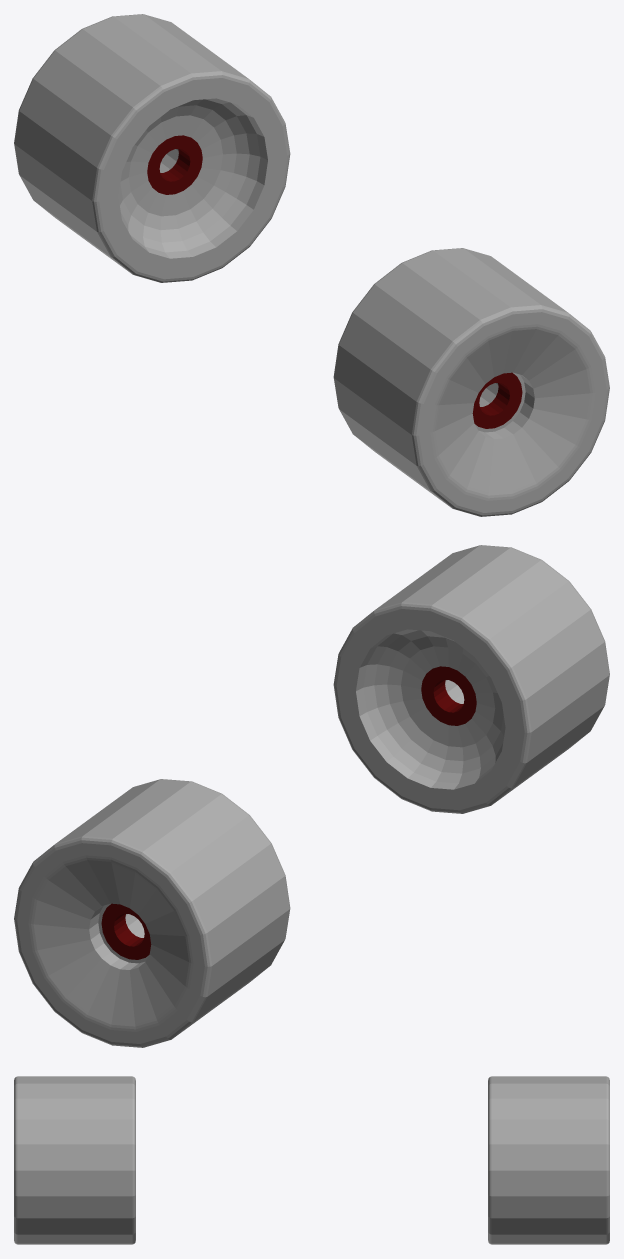
File: CruiserWheels.fbx
3 views of the same model, one above another, from view 1: azimuth 30°, elevation 25°; view 2: azimuth 150°, elevation 25°; view 3: azimuth 270°, elevation 25° (orthographic). The views are drawn at different scales.
Visible parts, largest first — view 1: CruiserWheels; view 2: CruiserWheels; view 3: CruiserWheels.
Part boxes in pixels (x1,y1,x2,y2): CruiserWheels: [14, 14, 609, 516]; CruiserWheels: [14, 545, 609, 1047]; CruiserWheels: [14, 1076, 609, 1244].
Size of the model in its own units: 0.625 by 0.625 by 2.2.
